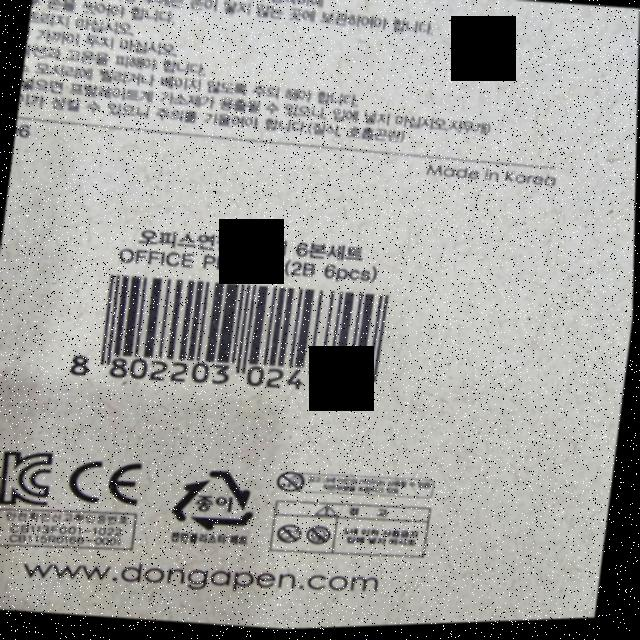Paper: (170, 464, 262, 538)
